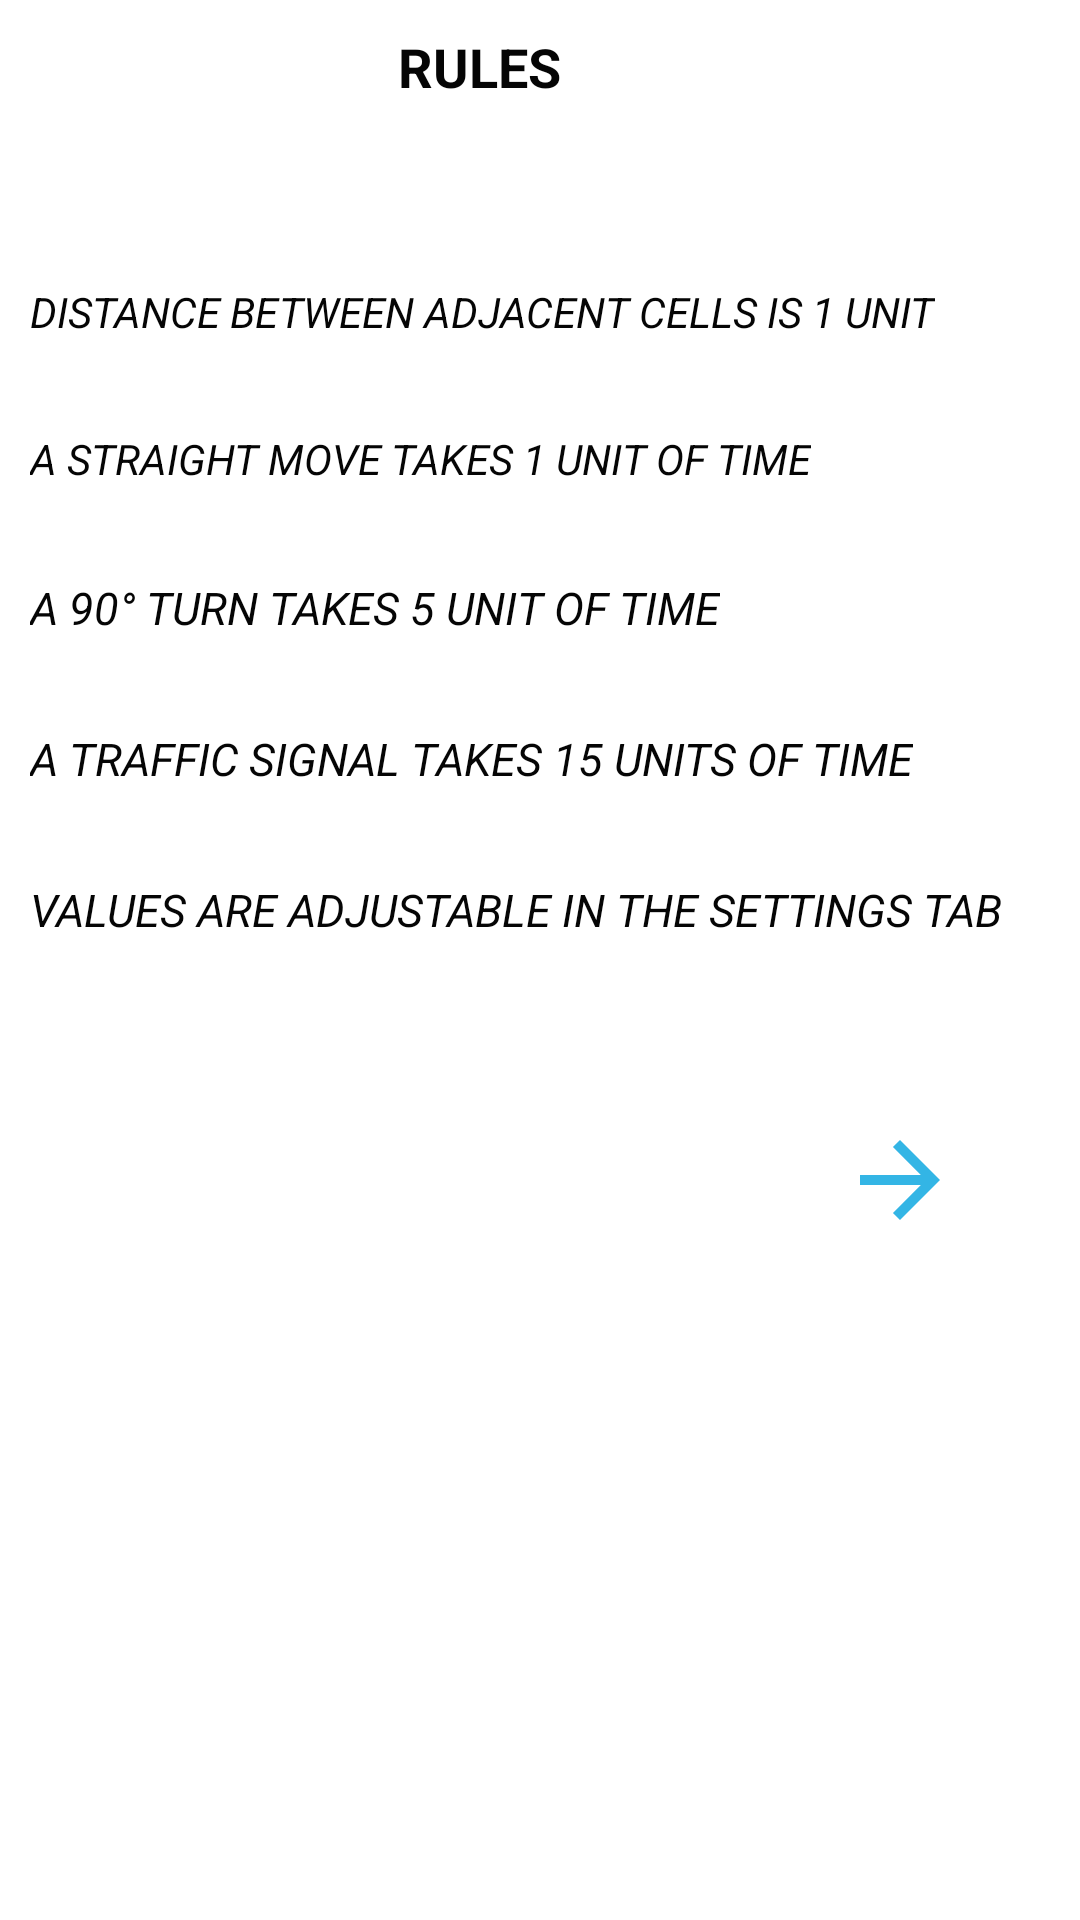

Named icons in this screenshot (1080px×1920px) and their bounding boxes, [x1=x1, y1=y1, x2=x2, y2=y2]:
arrow forward: [x1=860, y1=1140, x2=940, y2=1220]
